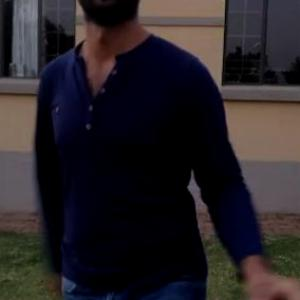follow: (33, 0, 218, 299)
